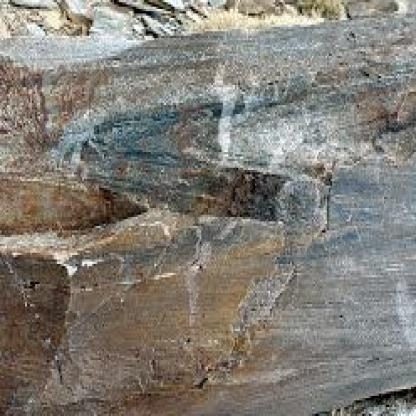Metamorphic_Quartize: (1, 9, 416, 415)
